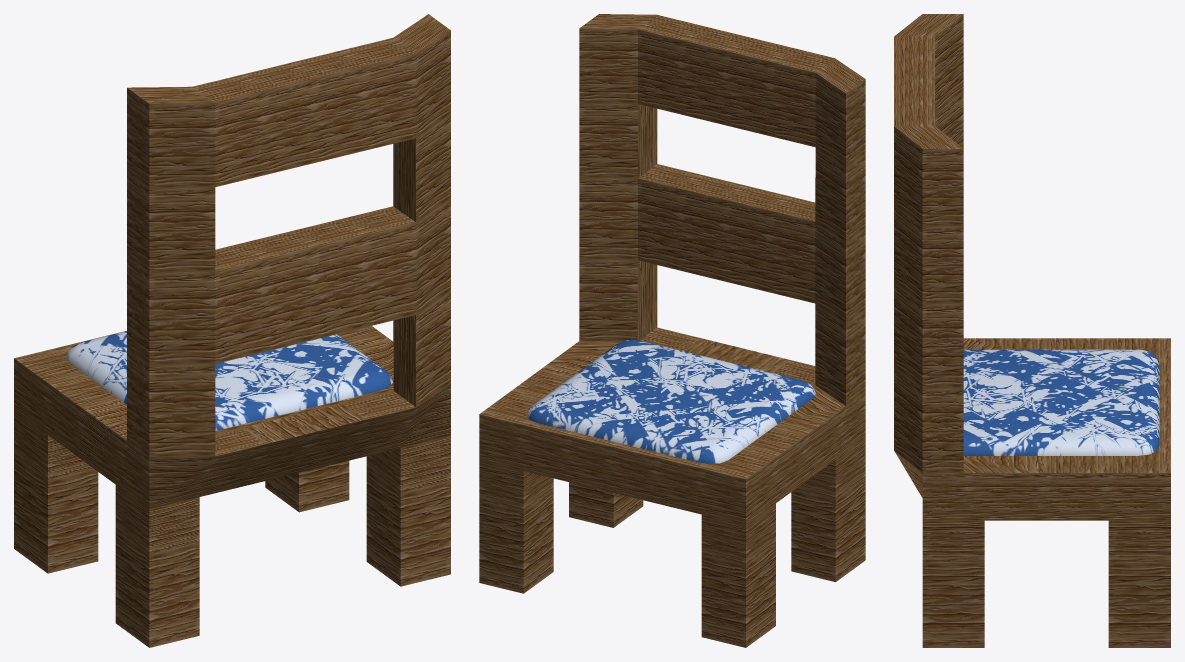
Rendered from diningchair.FBX.
3 renders of one model, left to right at view 1: azimuth 30°, elevation 25°; view 2: azimuth 150°, elevation 25°; view 3: azimuth 270°, elevation 25°, orthographic. The views are drawn at different scales.
Parts seen in each view (by area): view 1: chair, cushion chair; view 2: chair, cushion chair; view 3: chair, cushion chair.
Part boxes in pixels (<box>): chair: <box>14,14,450,647</box>; cushion chair: <box>66,331,392,430</box>; chair: <box>479,14,865,647</box>; cushion chair: <box>526,339,815,463</box>; chair: <box>894,14,1170,647</box>; cushion chair: <box>963,349,1159,455</box>.
Bounding box in the file's own units: 119 × 205 × 103.
Materials: 2 (2 with a texture image).
